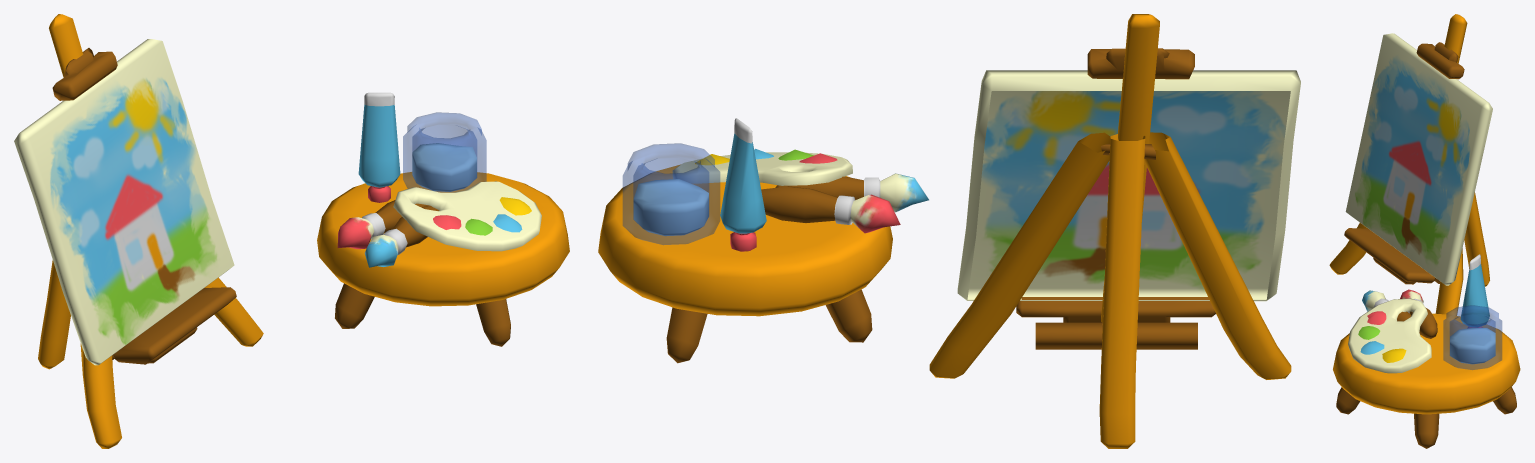
Rendered from Easel & Paint.obj.
The picture shows the model from 3 angles, left to right: view 1: azimuth 30°, elevation 25°; view 2: azimuth 150°, elevation 25°; view 3: azimuth 270°, elevation 25°; orthographic projection. The views are drawn at different scales.
Parts seen in each view (by area): view 1: Easel_Easel_&_Paint, Easel_&_Paint_Painting, Easel_&_Paint_Jar; view 2: Easel_Easel_&_Paint, Easel_&_Paint_Painting, Easel_&_Paint_Jar; view 3: Easel_Easel_&_Paint, Easel_&_Paint_Painting, Easel_&_Paint_Jar.
Part boxes in pixels (x1,y1,x2,y2): Easel_Easel_&_Paint: (38,14,569,448); Easel_&_Paint_Painting: (14,39,234,365); Easel_&_Paint_Jar: (403,112,486,192); Easel_Easel_&_Paint: (598,14,1291,448); Easel_&_Paint_Painting: (957,70,1300,301); Easel_&_Paint_Jar: (623,143,719,244); Easel_Easel_&_Paint: (1329,14,1520,448); Easel_&_Paint_Painting: (1345,33,1492,285); Easel_&_Paint_Jar: (1443,305,1501,369).
Bounding box in the file's own units: 1.79 × 1.11 × 0.7162.
3 materials, 2 textured.
